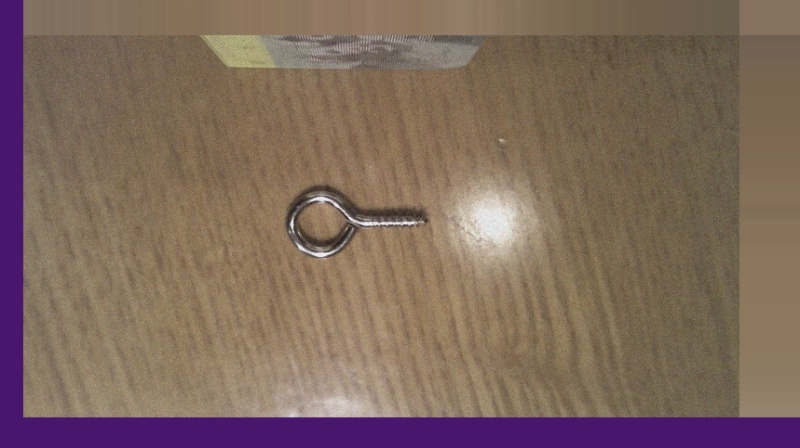O001: (277, 181, 428, 261)
